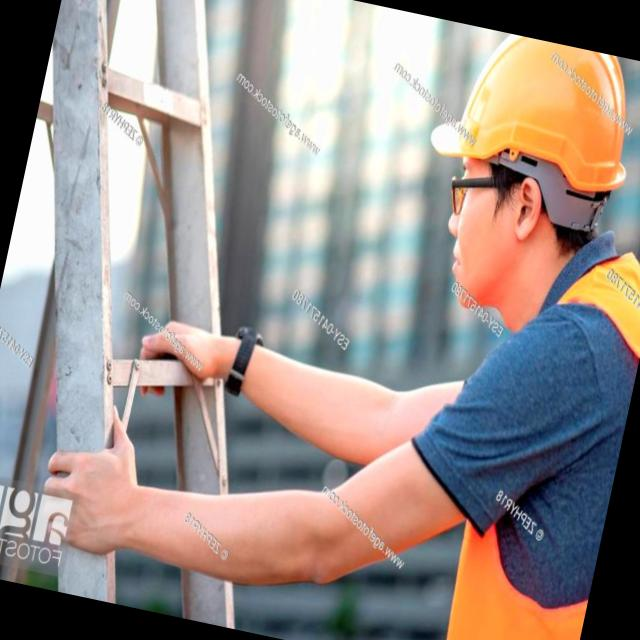helmet: (414, 21, 640, 241)
no-goggles: (436, 157, 516, 226)
vest: (431, 223, 640, 640)
